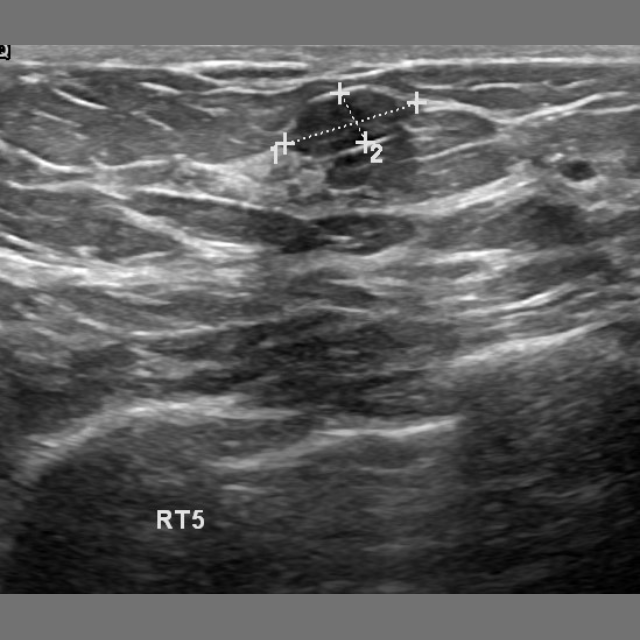cancer: (258, 66, 436, 233)
